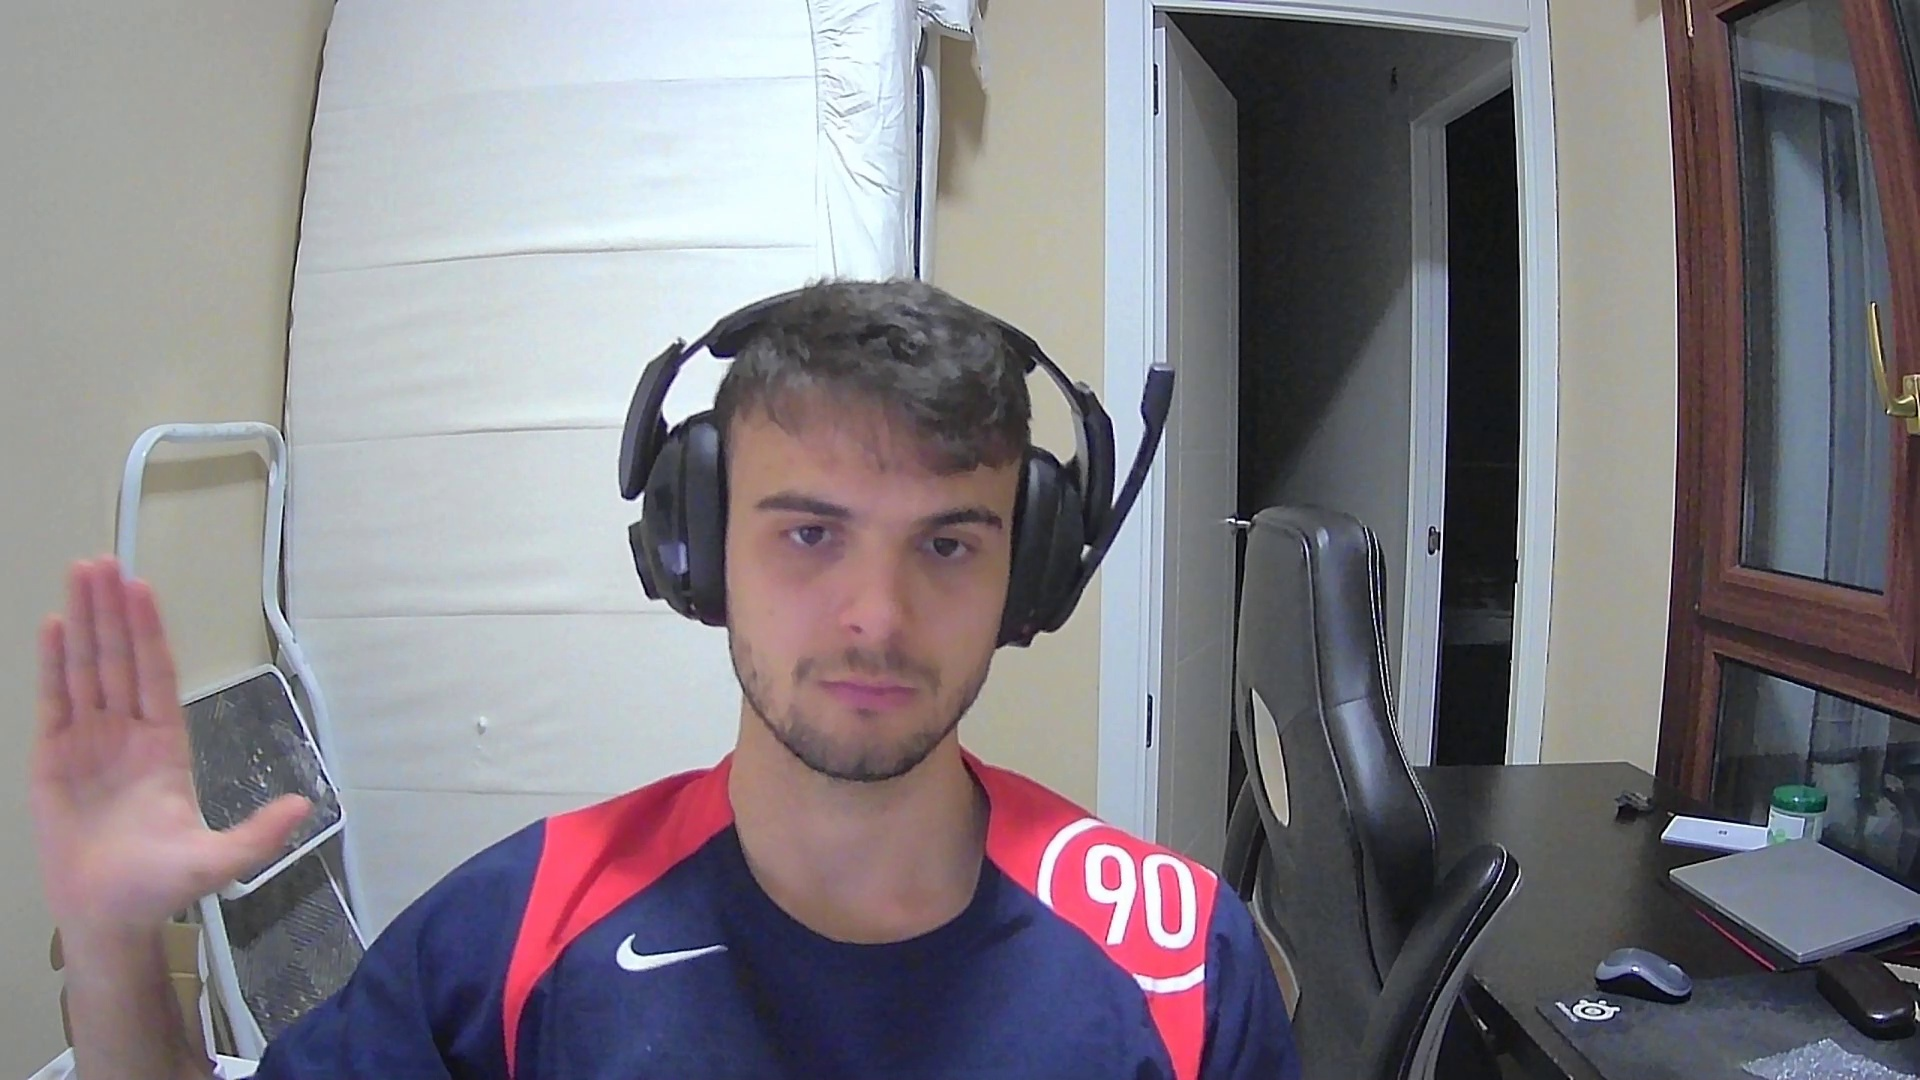Palm: (11, 549, 316, 945)
